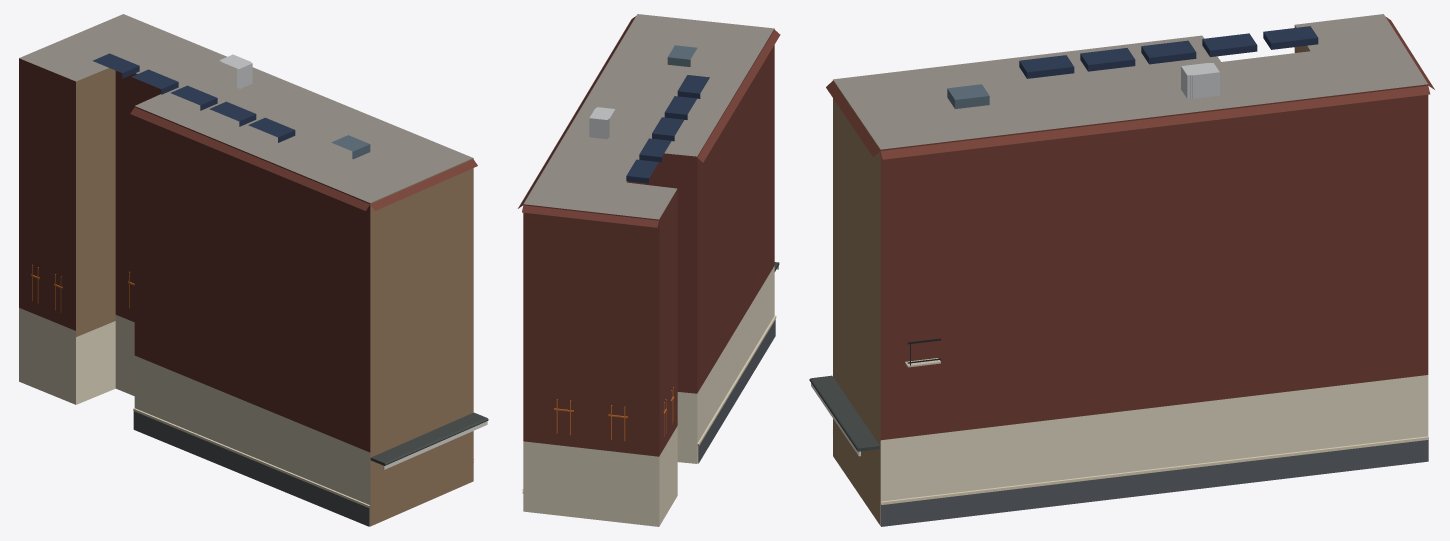
3 renders of one model, left to right at view 1: azimuth 30°, elevation 25°; view 2: azimuth 150°, elevation 25°; view 3: azimuth 270°, elevation 25°, orthographic. The views are drawn at different scales.
Visible parts, largest first — view 1: jan-evertsen-procedural-0363100012096187; view 2: jan-evertsen-procedural-0363100012096187; view 3: jan-evertsen-procedural-0363100012096187.
Part boxes in pixels (box(x1,y1,x2,y2)): jan-evertsen-procedural-0363100012096187: box(19, 14, 488, 526); jan-evertsen-procedural-0363100012096187: box(518, 14, 780, 526); jan-evertsen-procedural-0363100012096187: box(809, 14, 1434, 526).
Size of the model in its own units: 11.46 by 15.33 by 21.74.
